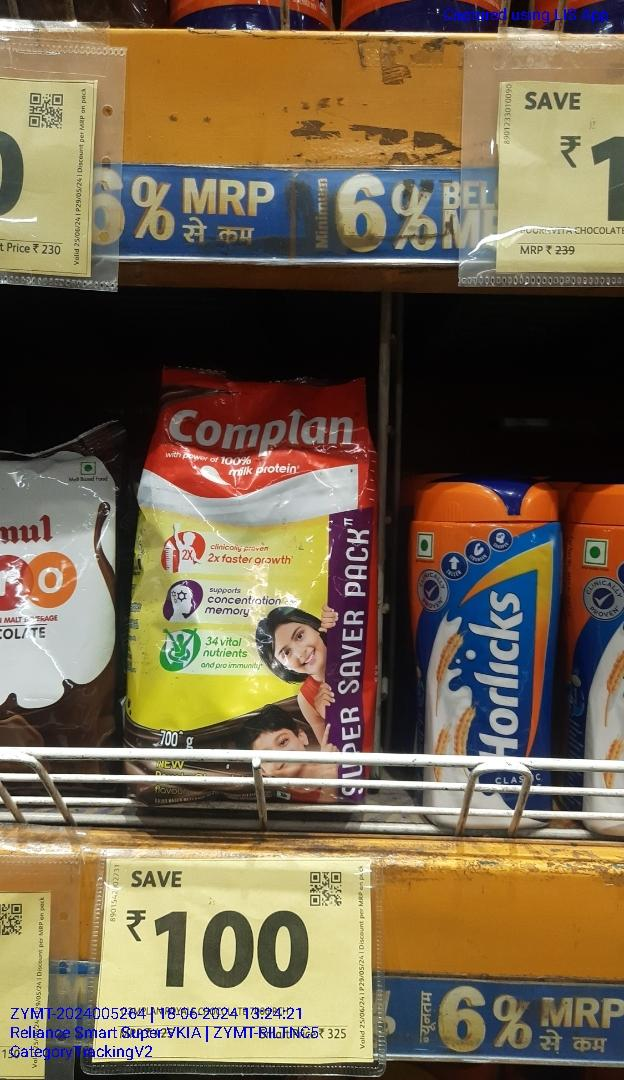COMPLAN_RC_POUCH_700_GMS_12: (124, 363, 368, 830)
HORLICK_CLASSIC_MALT_500_G_JAR: (412, 475, 559, 831)
